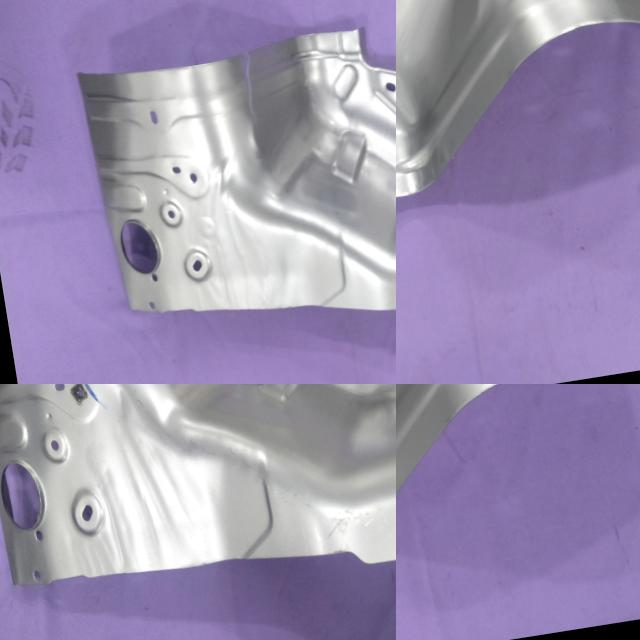Defect: (228, 49, 269, 125)
Healthy: (0, 384, 396, 623), (396, 0, 640, 244), (396, 384, 640, 588)
